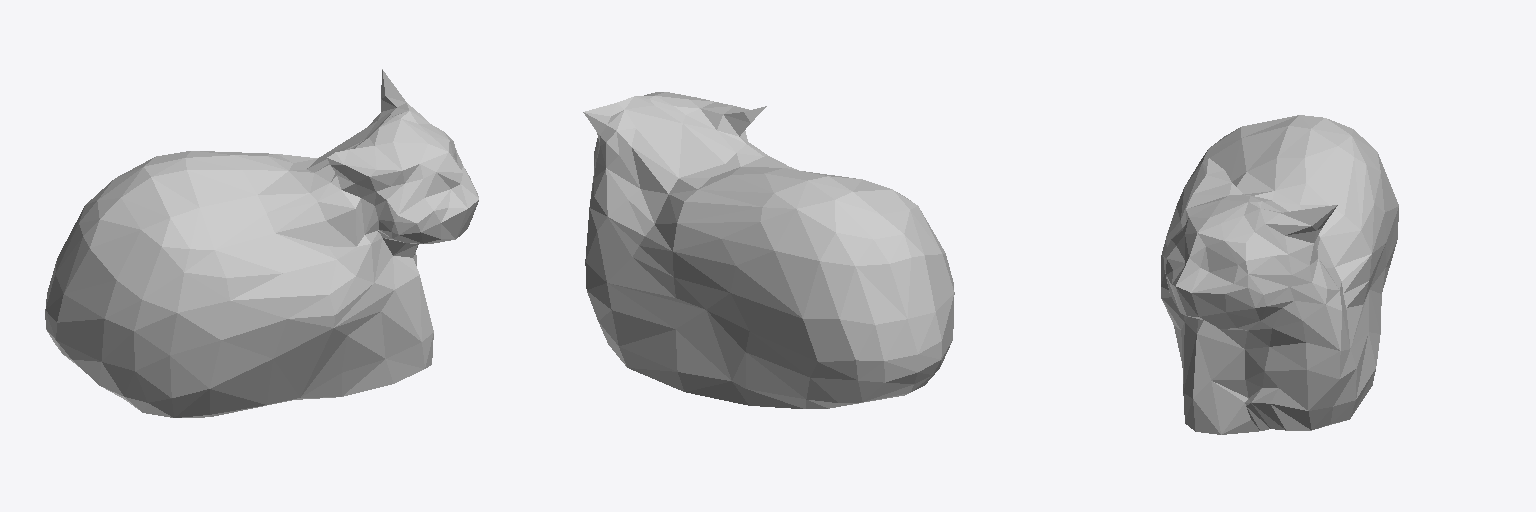
File: maxwell.obj
3 views of the same model, side by side, from view 1: azimuth 30°, elevation 25°; view 2: azimuth 150°, elevation 25°; view 3: azimuth 270°, elevation 25° (orthographic).
Visible parts, largest first — view 1: dingus; view 2: dingus; view 3: dingus.
Part boxes in pixels (x1,y1,x2,y2): dingus: (45,69,478,417); dingus: (583,92,954,408); dingus: (1161,115,1398,434).
Bounding box in the file's own units: 29.82 × 19.45 × 16.49.